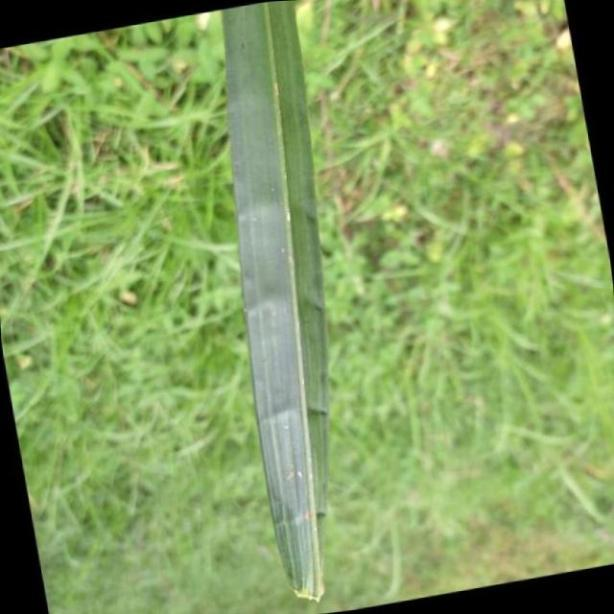Boron: (217, 0, 329, 604)
